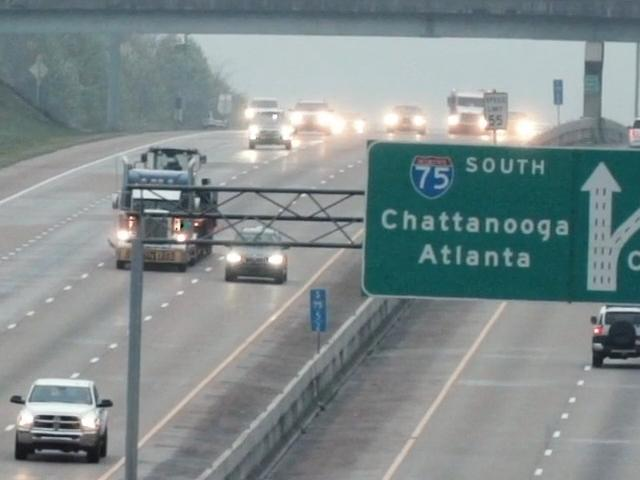car: (6, 375, 113, 466), (222, 213, 290, 290), (242, 108, 296, 149), (296, 99, 334, 139), (382, 105, 432, 132), (622, 117, 640, 146)
pickup-truck: (578, 305, 640, 373)
truck: (120, 142, 215, 270)
